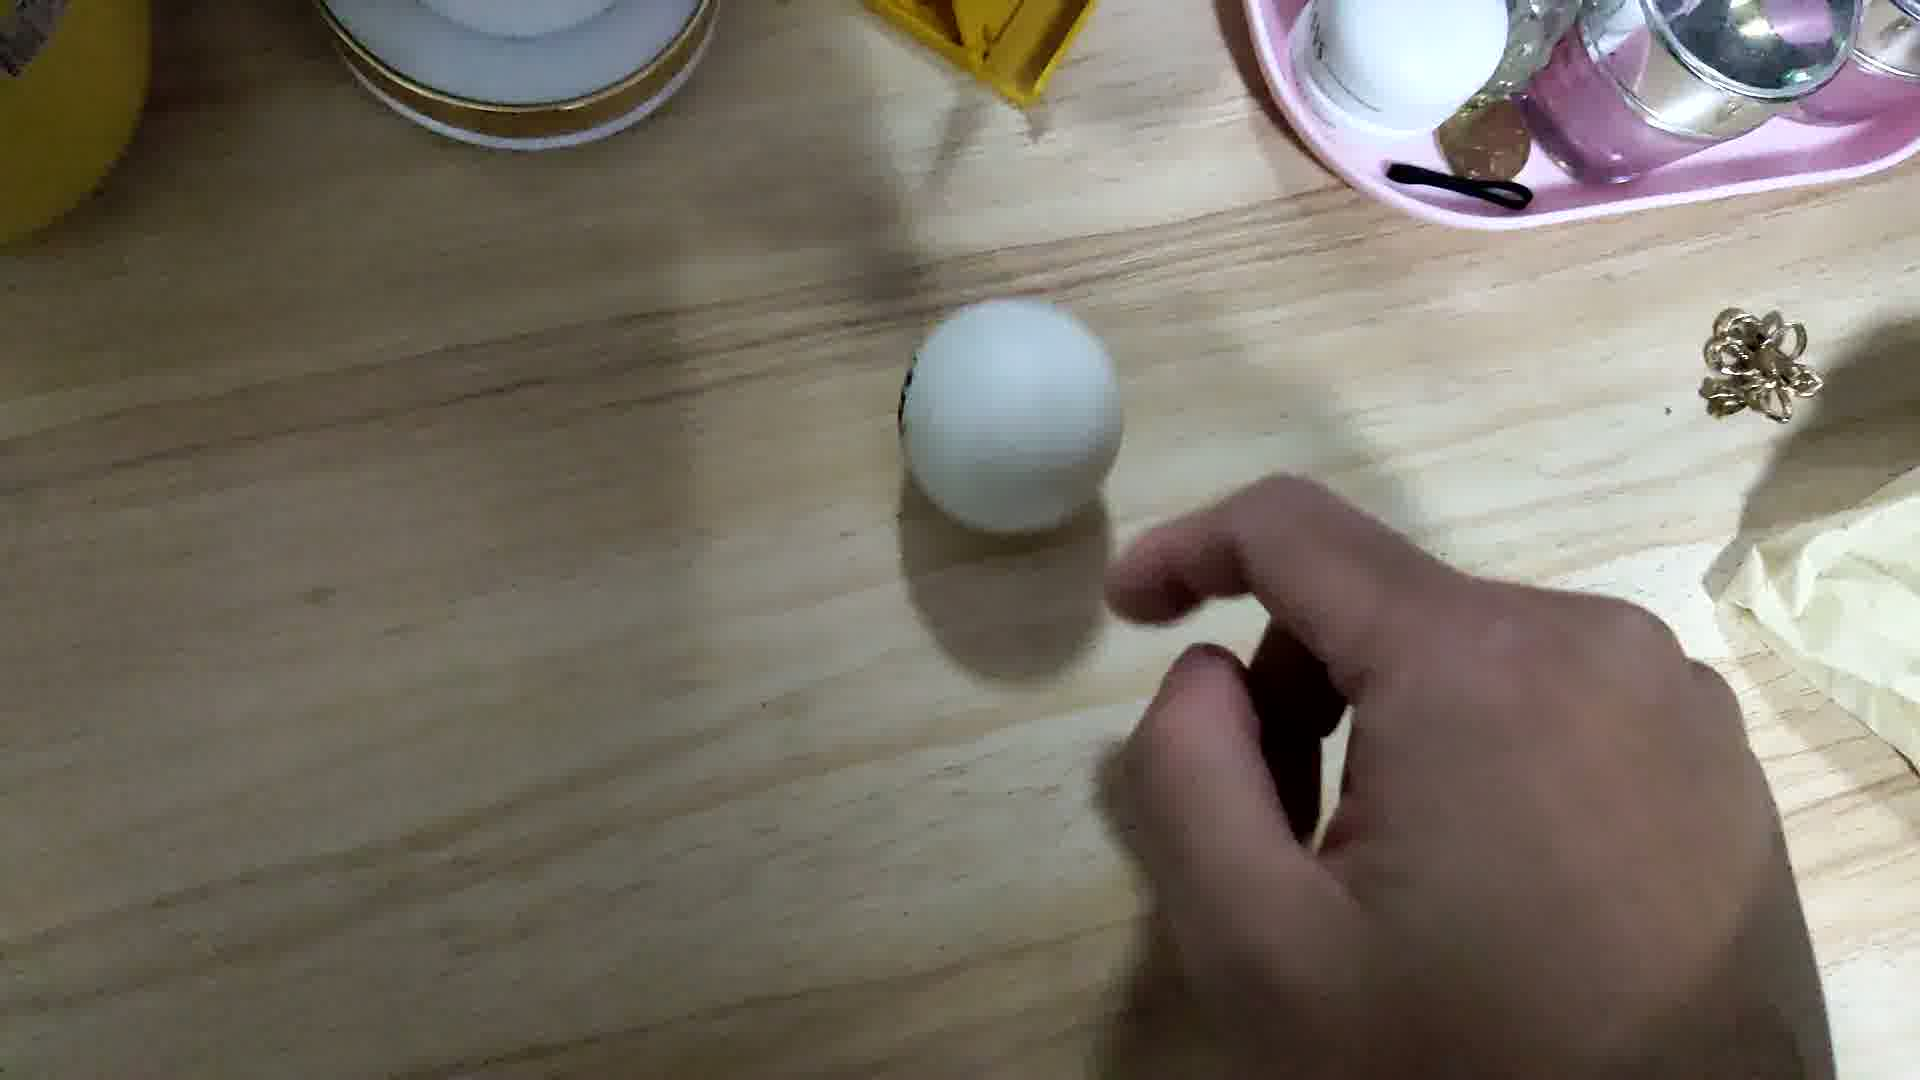Ball: (895, 291, 1122, 545)
